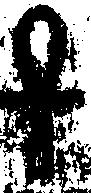Ankh: (1, 1, 87, 185)
